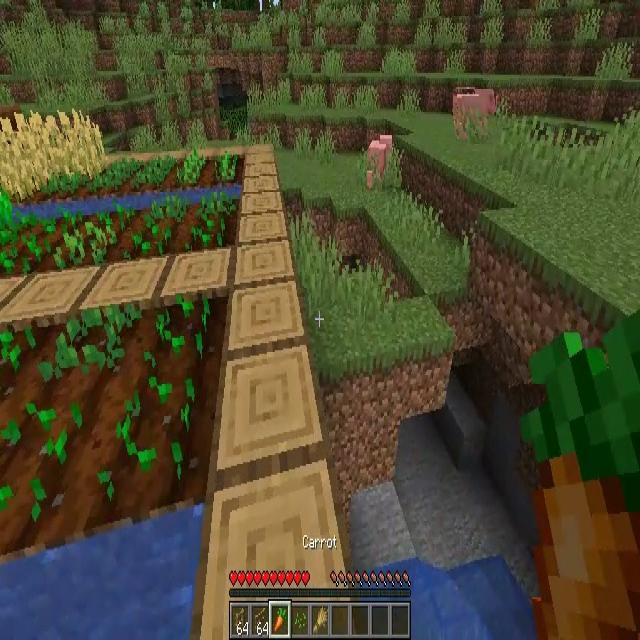pig: (453, 89, 496, 142), (365, 135, 394, 189)
